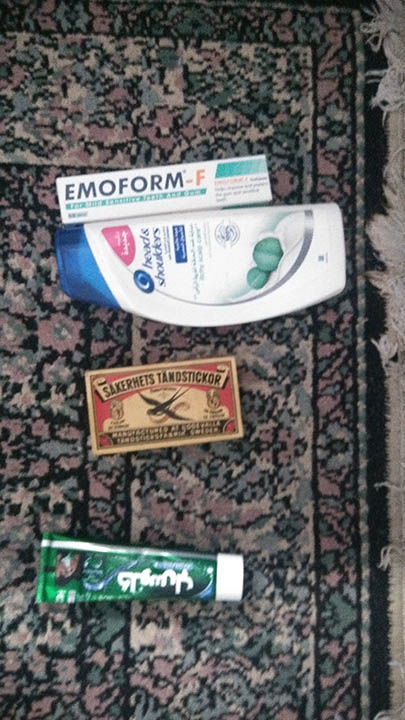Toothpaste-Closeup 3.04$: (31, 543, 249, 608)
Toothpaste-F 1.5$: (52, 140, 293, 220)
match-sticks .90$: (77, 347, 255, 459)
shampoo-green 4.5$: (59, 202, 359, 326)
